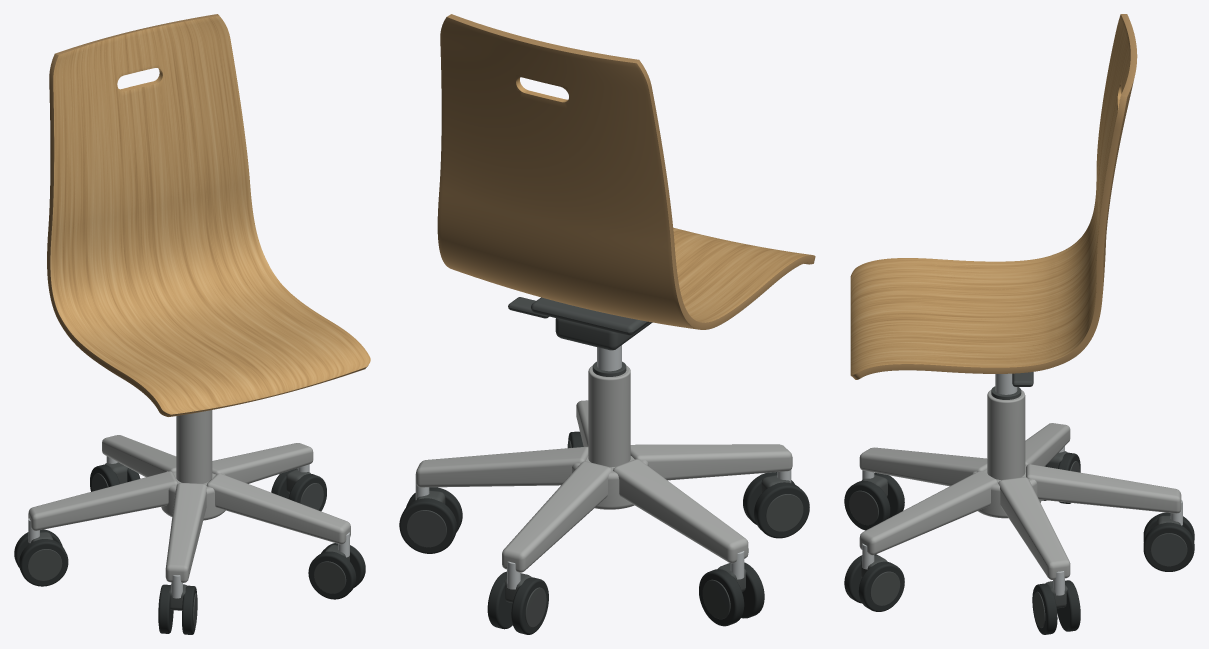
Rendered from wooden-chair.glb.
3 renders of one model, left to right at view 1: azimuth 30°, elevation 25°; view 2: azimuth 150°, elevation 25°; view 3: azimuth 270°, elevation 25°, orthographic. The views are drawn at different scales.
Visible parts, largest first — view 1: 01 | Single-piece molded plywood seat and back, 05.3 | Rounded tapered base spoke, 05.5 | Rounded tapered base spoke, 05.4 | Rounded tapered base spoke, 04 | Pedestal outer sleeve, 05.1 | Rounded tapered base spoke, 05.2 | Rounded tapered base spoke, Caster 3 | twin tire 1, Caster 5 | twin tire -1, Caster 3 | inset hub 1, Caster 5 | inset hub -1, Star-base center hub (+3 smaller); view 2: 01 | Single-piece molded plywood seat and back, 05.1 | Rounded tapered base spoke, 05.3 | Rounded tapered base spoke, 05.2 | Rounded tapered base spoke, 05.4 | Rounded tapered base spoke, 04 | Pedestal outer sleeve, 02 | Under-seat steel mounting plate, Caster 1 | twin tire 1, Tilt mechanism housing, Caster 4 | twin tire -1, Caster 3 | twin tire -1, Caster 1 | inset hub 1 (+8 smaller); view 3: 01 | Single-piece molded plywood seat and back, 05.2 | Rounded tapered base spoke, 05.5 | Rounded tapered base spoke, 05.1 | Rounded tapered base spoke, 05.4 | Rounded tapered base spoke, 04 | Pedestal outer sleeve, 05.3 | Rounded tapered base spoke, Caster 2 | twin tire -1, Caster 5 | twin tire 1, Caster 2 | inset hub -1, Caster 4 | twin tire 1, Caster 1 | twin tire 1 (+6 smaller).
Part boxes in pixels (x1,y1,x2,y2): 01 | Single-piece molded plywood seat and back: (47, 14, 370, 416); 05.3 | Rounded tapered base spoke: (28, 471, 177, 530); 05.5 | Rounded tapered base spoke: (206, 473, 350, 544); 05.4 | Rounded tapered base spoke: (165, 482, 206, 582); 04 | Pedestal outer sleeve: (176, 410, 212, 483); 05.1 | Rounded tapered base spoke: (212, 443, 313, 483); 05.2 | Rounded tapered base spoke: (102, 435, 176, 477); Caster 3 | twin tire 1: (19, 539, 68, 586); Caster 5 | twin tire -1: (308, 551, 356, 599); Caster 3 | inset hub 1: (27, 549, 62, 580); Caster 5 | inset hub -1: (314, 561, 346, 593); Star-base center hub: (161, 471, 225, 520); 01 | Single-piece molded plywood seat and back: (437, 14, 815, 329); 05.1 | Rounded tapered base spoke: (416, 446, 588, 487); 05.3 | Rounded tapered base spoke: (613, 459, 748, 563); 05.2 | Rounded tapered base spoke: (502, 461, 612, 572); 05.4 | Rounded tapered base spoke: (630, 444, 792, 480); 04 | Pedestal outer sleeve: (588, 365, 630, 467); 02 | Under-seat steel mounting plate: (531, 297, 649, 335); Caster 1 | twin tire 1: (399, 498, 456, 553); Tilt mechanism housing: (555, 318, 652, 350); Caster 4 | twin tire -1: (754, 482, 809, 538); Caster 3 | twin tire -1: (699, 569, 744, 626); Caster 1 | inset hub 1: (406, 510, 446, 547); 01 | Single-piece molded plywood seat and back: (850, 14, 1137, 379); 05.2 | Rounded tapered base spoke: (1026, 464, 1181, 513); 05.5 | Rounded tapered base spoke: (859, 471, 997, 555); 05.1 | Rounded tapered base spoke: (998, 477, 1070, 579); 05.4 | Rounded tapered base spoke: (859, 447, 987, 486); 04 | Pedestal outer sleeve: (987, 389, 1025, 480); 05.3 | Rounded tapered base spoke: (1025, 423, 1070, 466); Caster 2 | twin tire -1: (1143, 522, 1194, 571); Caster 5 | twin tire 1: (858, 561, 904, 611); Caster 2 | inset hub -1: (1150, 533, 1187, 566); Caster 4 | twin tire 1: (844, 480, 890, 530); Caster 1 | twin tire 1: (1057, 580, 1080, 631).
Size of the model in its own units: 0.6623 by 1.01 by 0.6305.
6 materials, 1 textured.
